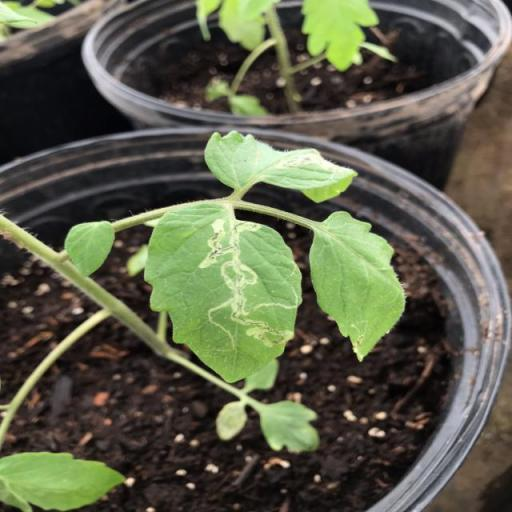Leaf Miner: (140, 198, 302, 384)
